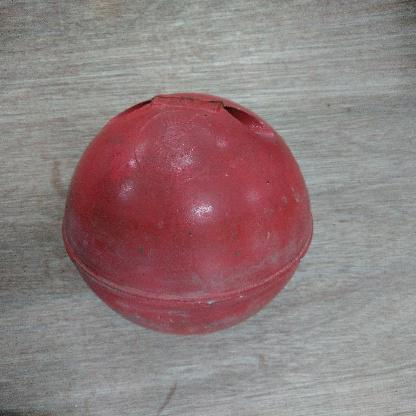red_buoy: (64, 78, 314, 336)
